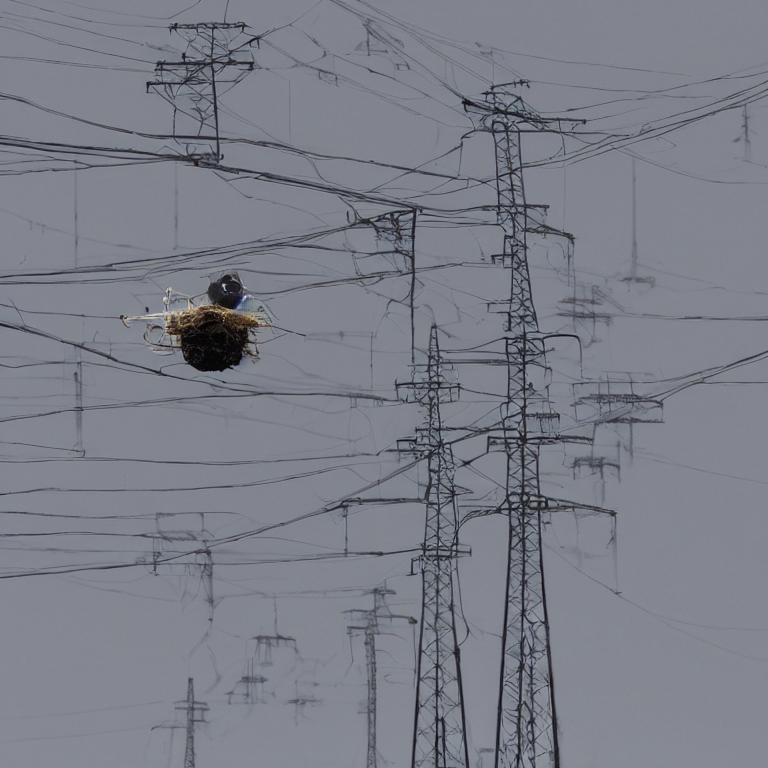nest: (167, 302, 250, 372)
